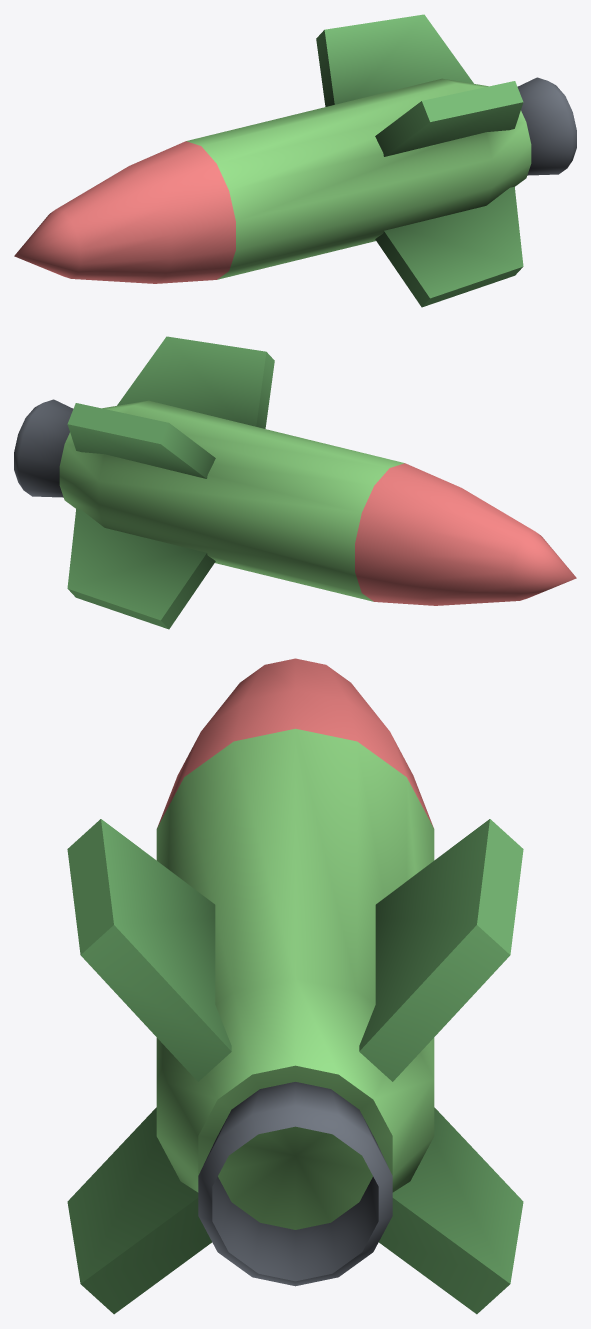
File: MiniBazooka.fbx
The picture shows the model from 3 angles, top to bottom: view 1: azimuth 30°, elevation 25°; view 2: azimuth 150°, elevation 25°; view 3: azimuth 270°, elevation 25°; orthographic projection. The views are drawn at different scales.
Visible parts, largest first — view 1: rocket_mini; view 2: rocket_mini; view 3: rocket_mini.
Boxes of the visible parts, left/top/right/bottom form: rocket_mini: left=14, top=14, right=576, bottom=307; rocket_mini: left=14, top=336, right=576, bottom=629; rocket_mini: left=67, top=658, right=523, bottom=1314.
Bounding box in the file's own units: 0.66 × 0.2404 × 0.2404.
